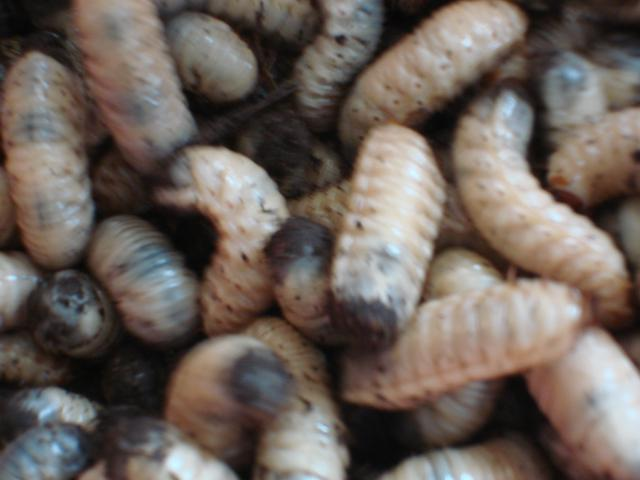grub: (332, 114, 461, 344)
